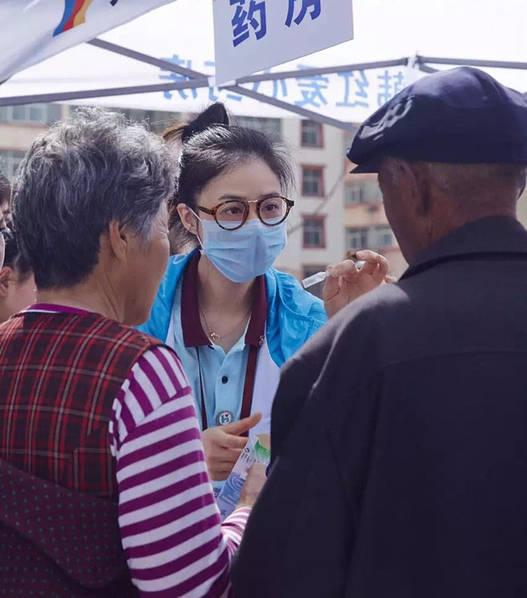OK: (206, 187, 293, 274)
